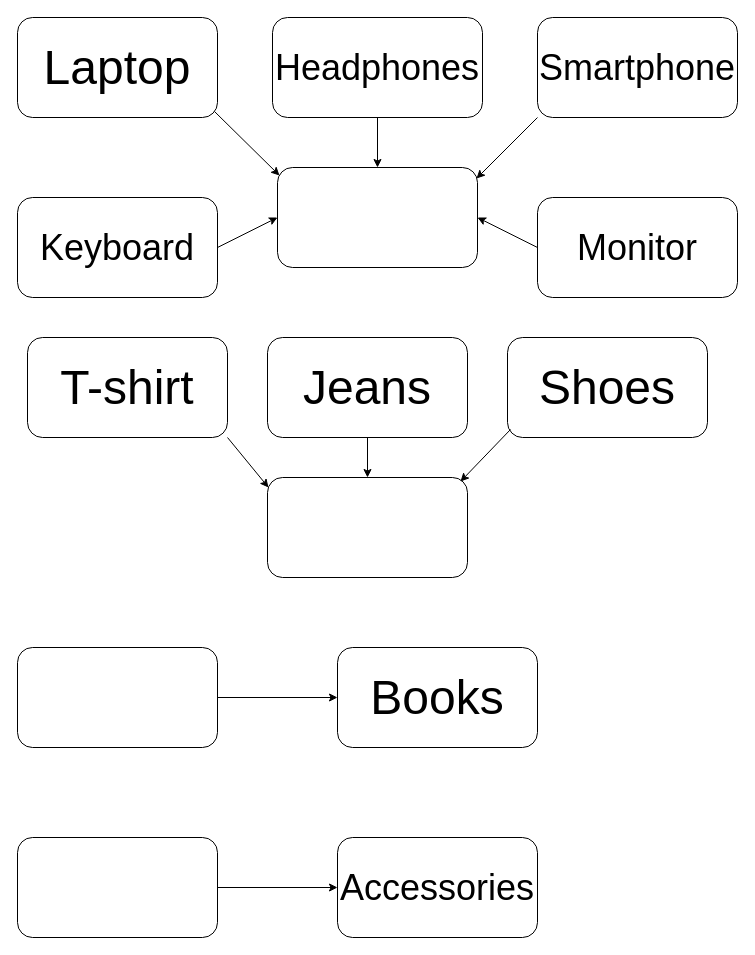
Some shapes in this 755 by 955 pixel diagram are drawn without their labels. The shapes that lost their labels are listed below. From the top down, each one's centre as x and y in pixels, then its label:
At (x=377, y=217): "Electronics".
At (x=367, y=527): "Clothing".
At (x=117, y=697): "Book".
At (x=117, y=887): "Backpack".
